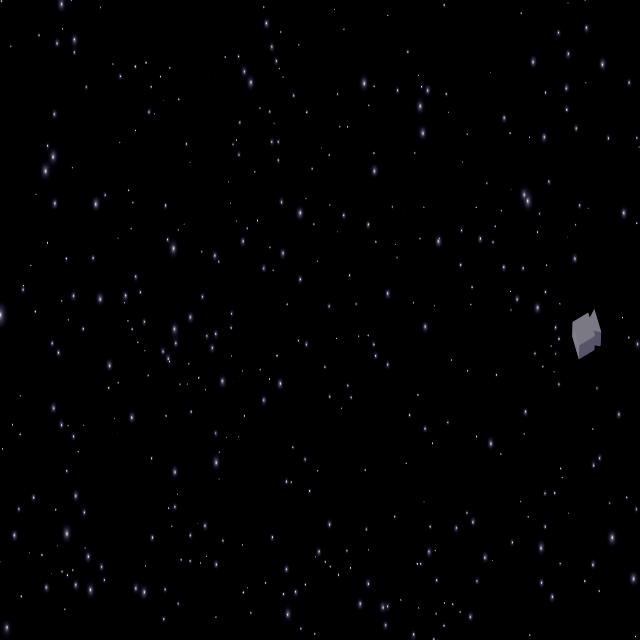large_debris: (567, 300, 605, 364)
